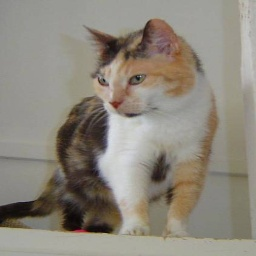cat: (4, 15, 217, 240)
